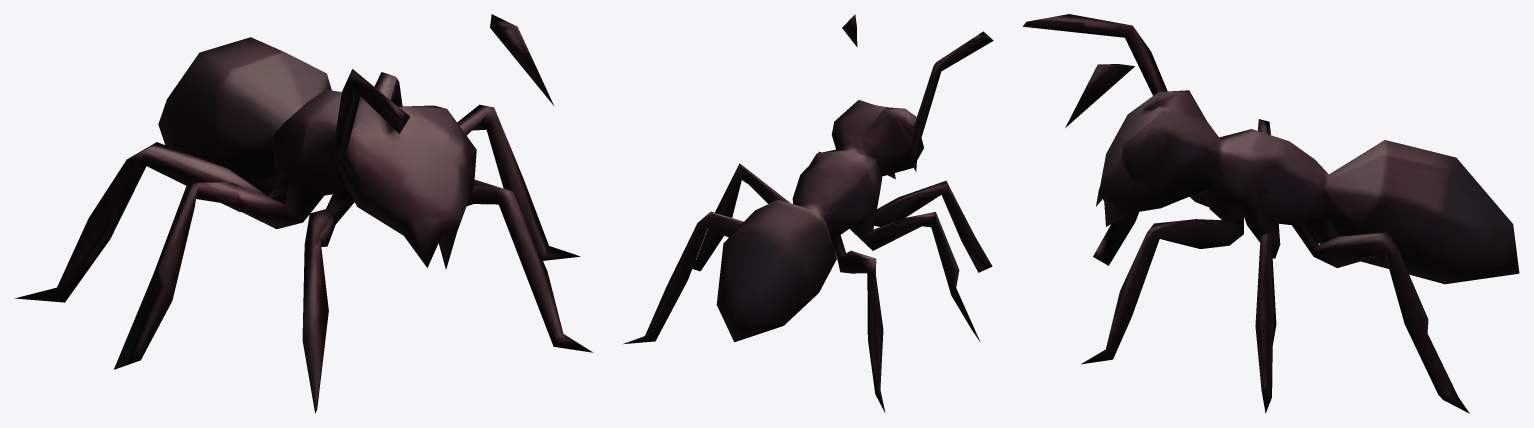
File: Ant.glb
3 views of the same model, side by side, from view 1: azimuth 30°, elevation 25°; view 2: azimuth 150°, elevation 25°; view 3: azimuth 270°, elevation 25° (orthographic). The views are drawn at different scales.
Visible parts, largest first — view 1: tripo_node_b27f7038-cc4a-4c1d-9cd7-03226790c126; view 2: tripo_node_b27f7038-cc4a-4c1d-9cd7-03226790c126; view 3: tripo_node_b27f7038-cc4a-4c1d-9cd7-03226790c126.
Part boxes in pixels (x1=…): tripo_node_b27f7038-cc4a-4c1d-9cd7-03226790c126: x1=14, y1=14, x2=592, y2=413; tripo_node_b27f7038-cc4a-4c1d-9cd7-03226790c126: x1=622, y1=14, x2=993, y2=412; tripo_node_b27f7038-cc4a-4c1d-9cd7-03226790c126: x1=1023, y1=14, x2=1519, y2=413.
Bounding box in the file's own units: 0.863 × 0.6623 × 0.9787.
Materials: 1 (1 with a texture image).
